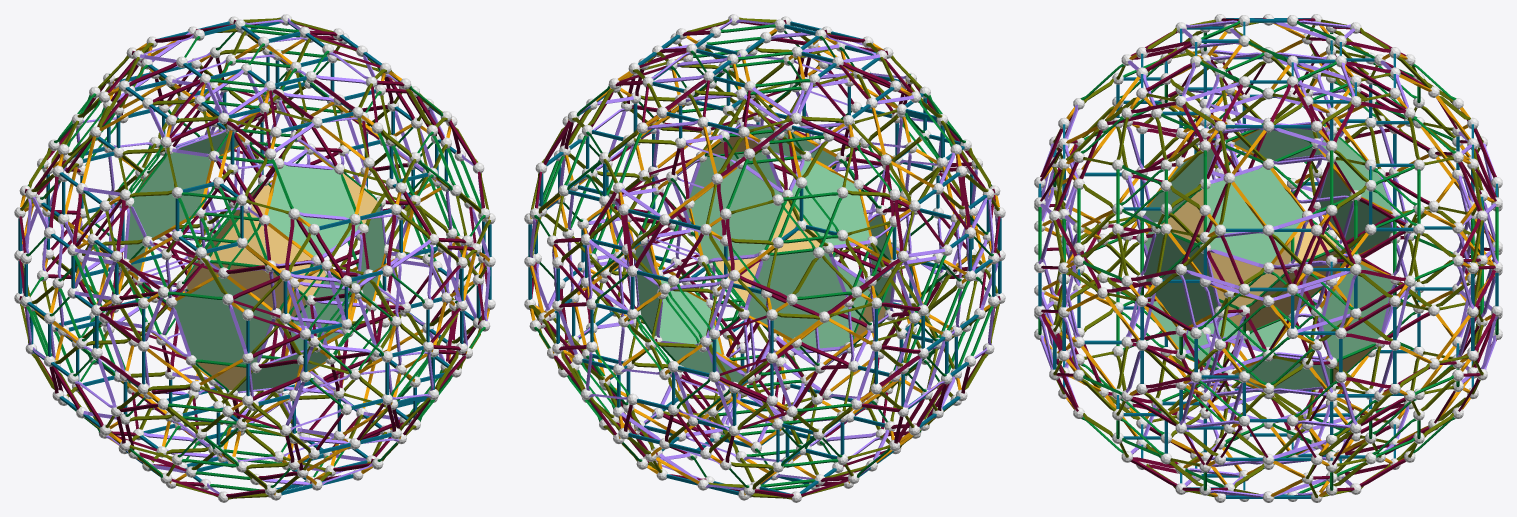
The model's file is JK-CRF.gltf.
3 views of the same model, side by side, from view 1: azimuth 30°, elevation 25°; view 2: azimuth 150°, elevation 25°; view 3: azimuth 270°, elevation 25° (orthographic). The views are drawn at different scales.
Size of the model in its own units: 82.25 by 82.25 by 82.25.
